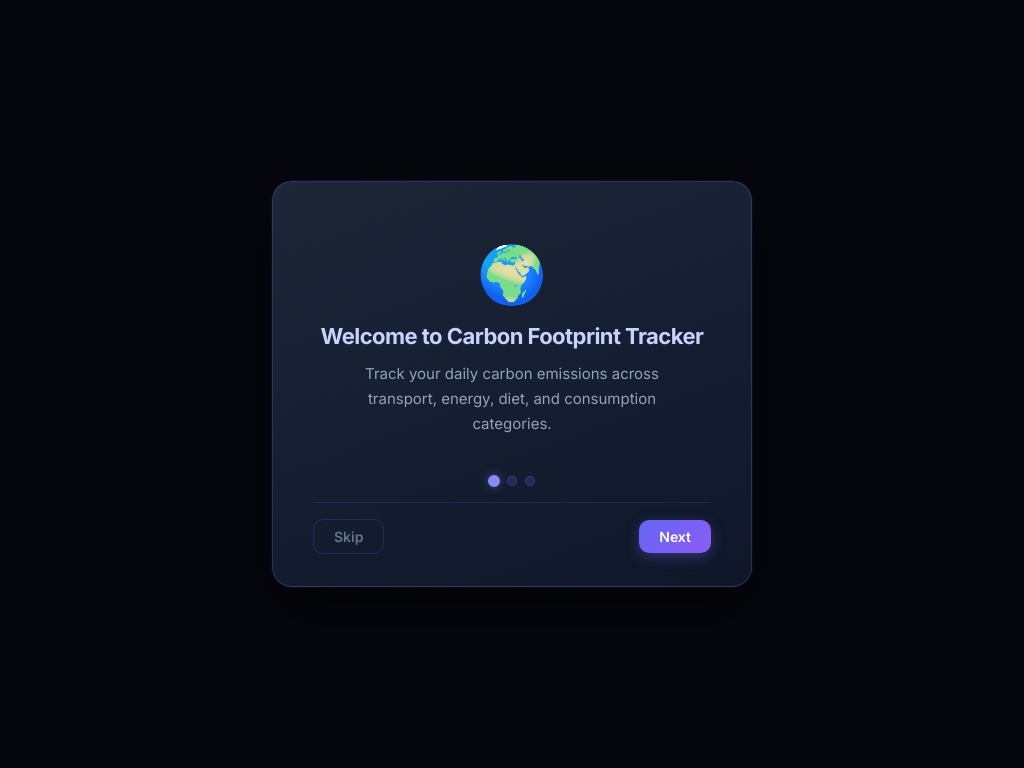
Test case: OnboardingModal › step navigation › goes back to previous step on "Previous" click
The width and height of the screenshot is (1024, 768).
Note: Go to step 2
Click the button "Next".
click(675, 537)  # box [639,520,711,553]
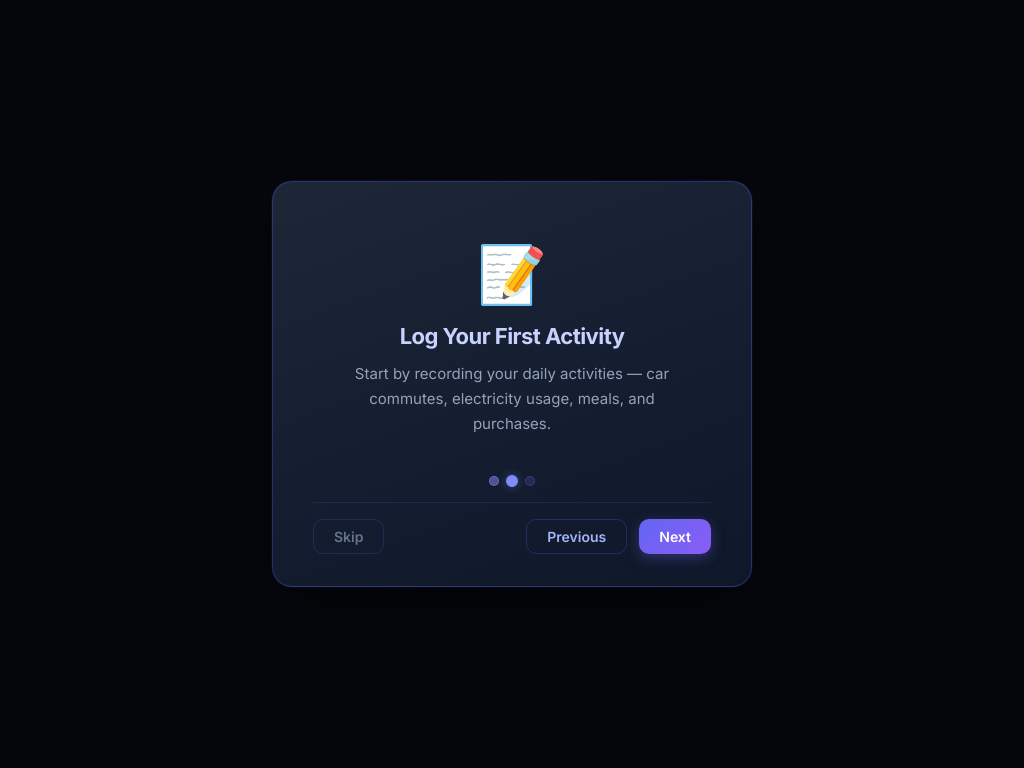
Expected: the heading "Log Your First Activity" is shown, [400,323,624,349]
Note: Go back to step 1
Click the button "Previous".
click(577, 537)  # box [526,519,627,554]
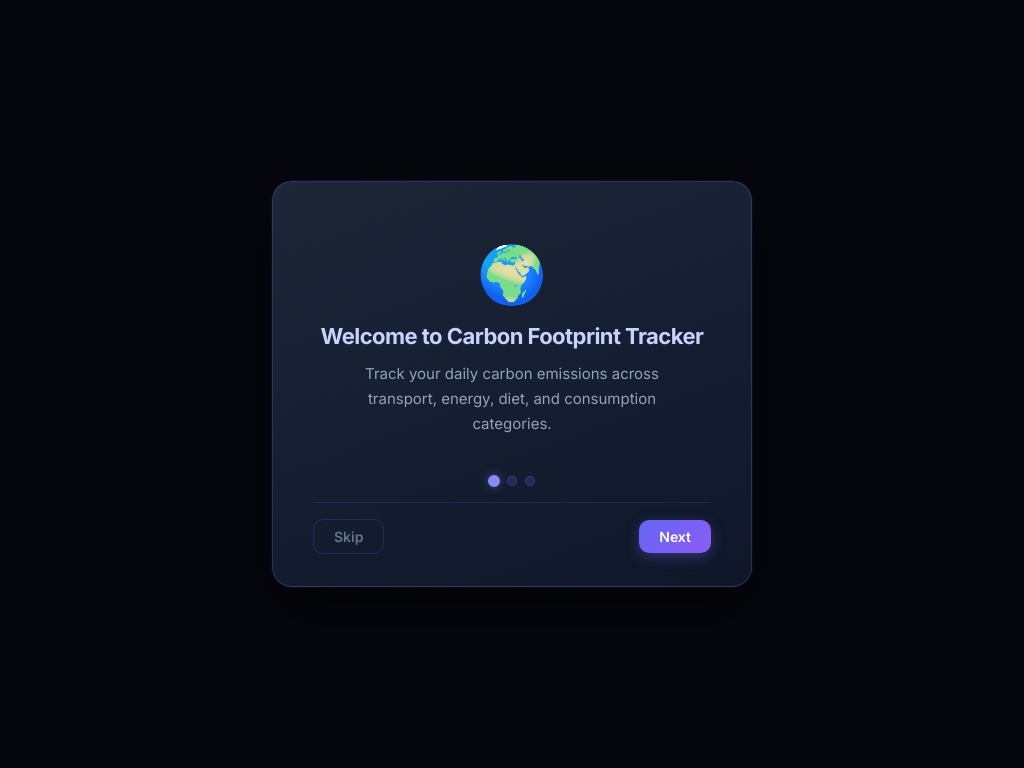
Expected: the heading "Welcome to Carbon Footprint Tracker" is shown, [313,322,711,350]
